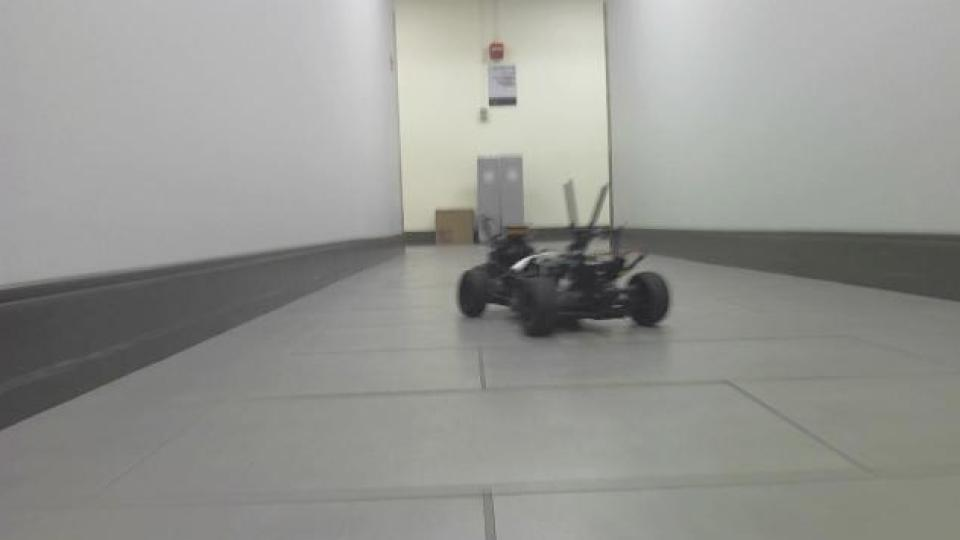car: (453, 177, 673, 340)
